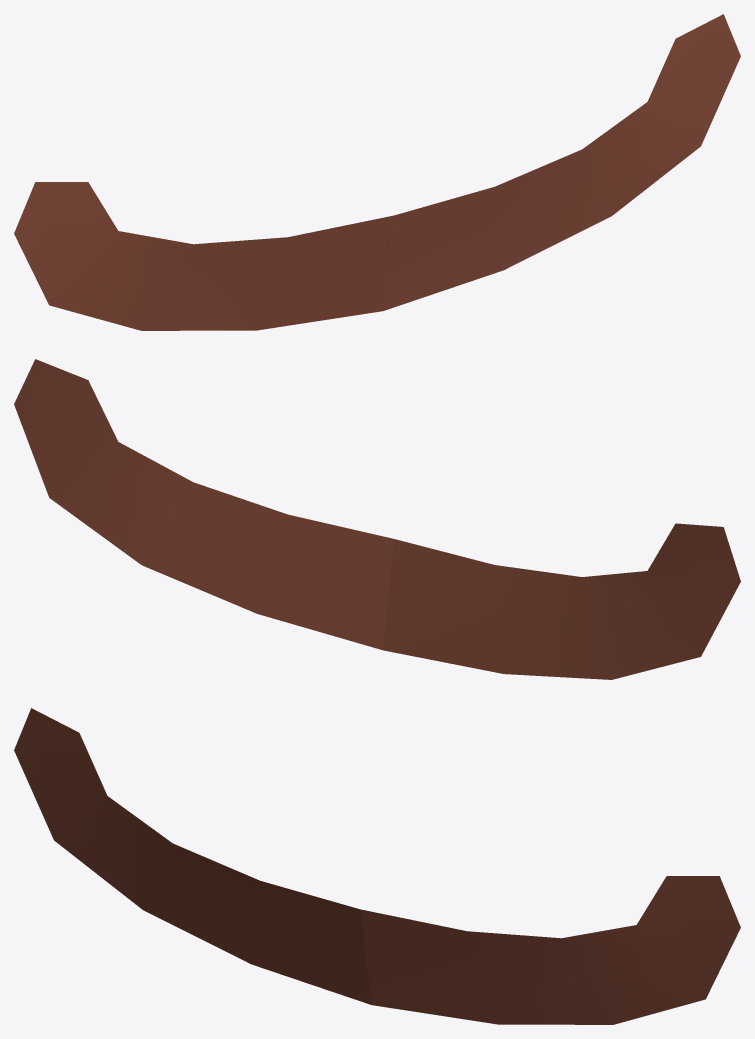
File: Mouth_Brown_2.fbx
3 renders of one model, top to bottom at view 1: azimuth 30°, elevation 25°; view 2: azimuth 150°, elevation 25°; view 3: azimuth 330°, elevation 25°, orthographic.
Parts seen in each view (by area): view 1: Mouth_Brown_2; view 2: Mouth_Brown_2; view 3: Mouth_Brown_2.
Part boxes in pixels (box(x1,y1,x2,y2)): Mouth_Brown_2: box(14, 14, 740, 330); Mouth_Brown_2: box(14, 359, 740, 679); Mouth_Brown_2: box(14, 708, 740, 1024).
Size of the model in its own units: 8.79 by 2.43 by 0.3997.
